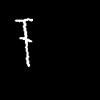double_crochet: (15, 18, 32, 66)
